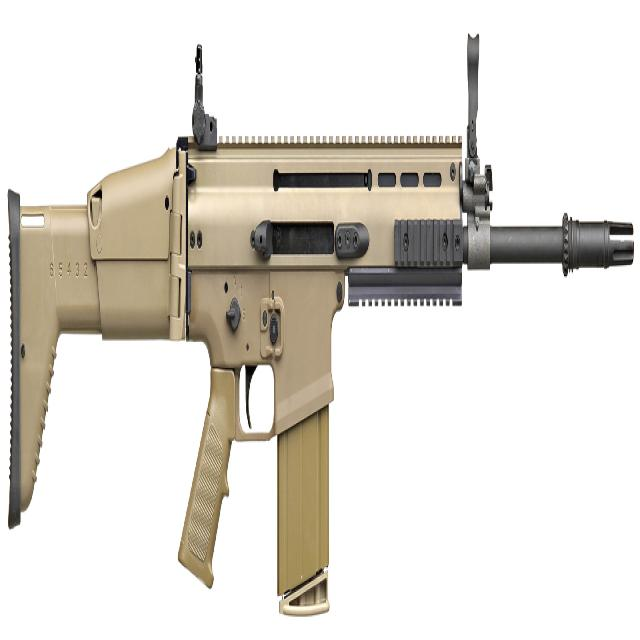Gun: (7, 7, 640, 640)
